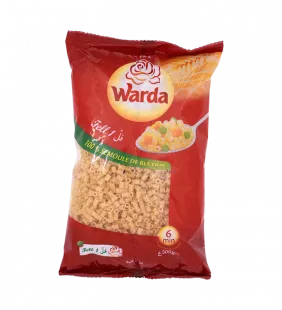LA ROSE BLANCHE: (52, 20, 228, 284)
